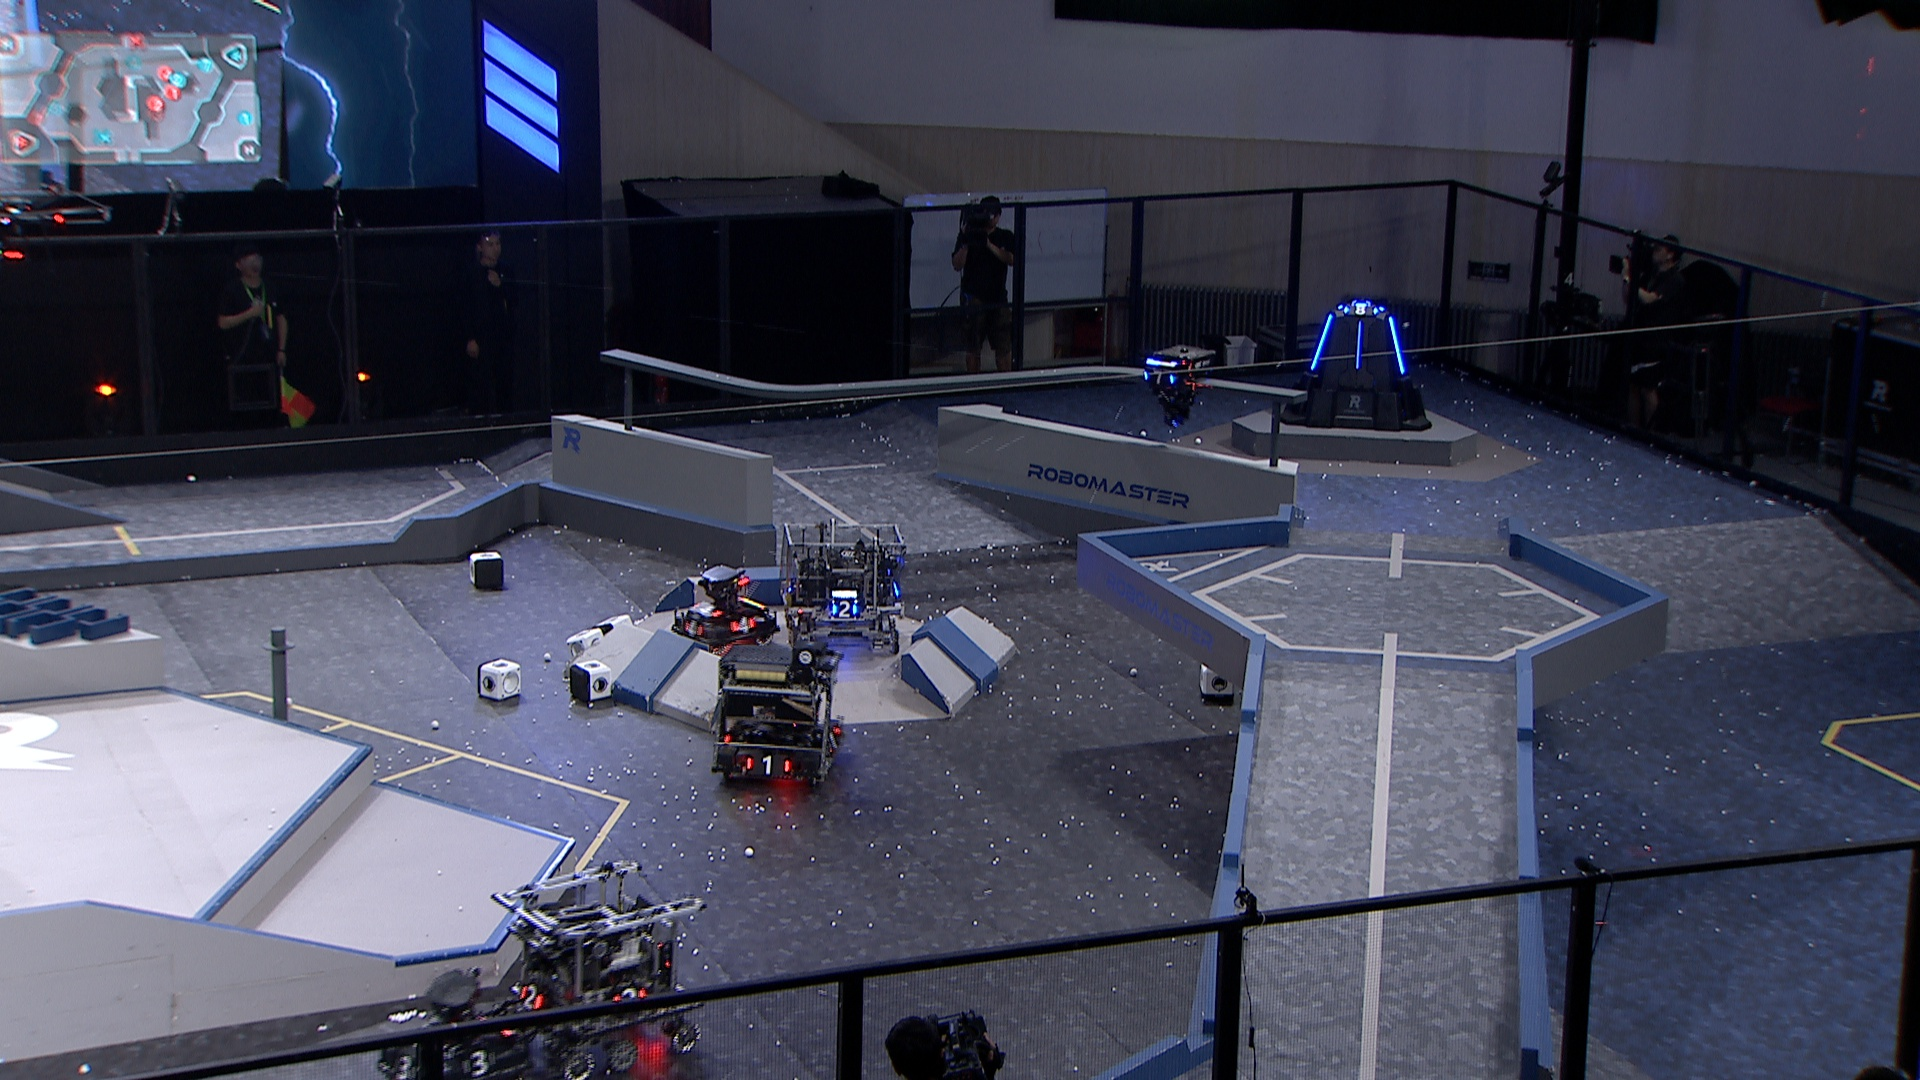armor: (1305, 313, 1335, 375), (1389, 314, 1408, 378), (460, 1048, 498, 1079), (745, 754, 793, 777), (516, 982, 547, 1014), (611, 984, 645, 1006), (389, 1054, 418, 1080), (827, 597, 860, 618), (690, 600, 723, 618), (1141, 371, 1178, 386), (731, 615, 757, 636), (1353, 319, 1364, 371), (680, 618, 705, 640), (1340, 305, 1379, 318), (825, 727, 841, 754)
base: (1276, 299, 1436, 434)
car: (485, 861, 705, 1079), (702, 640, 849, 790), (372, 968, 535, 1080), (779, 520, 911, 655), (665, 562, 785, 657)
watcher: (1139, 342, 1216, 429)
